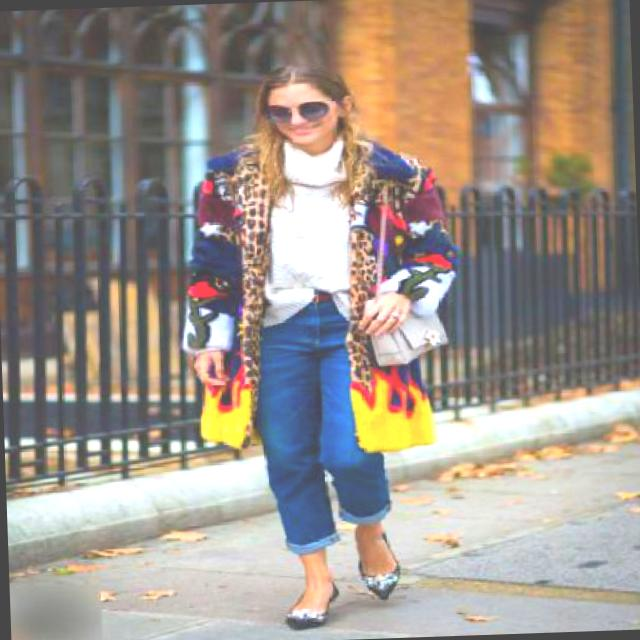Person: (121, 43, 483, 640)
